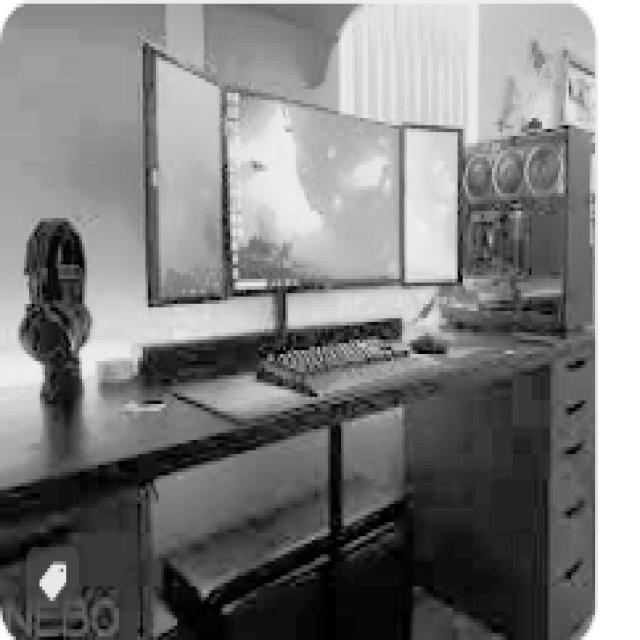table: (0, 318, 595, 636)
